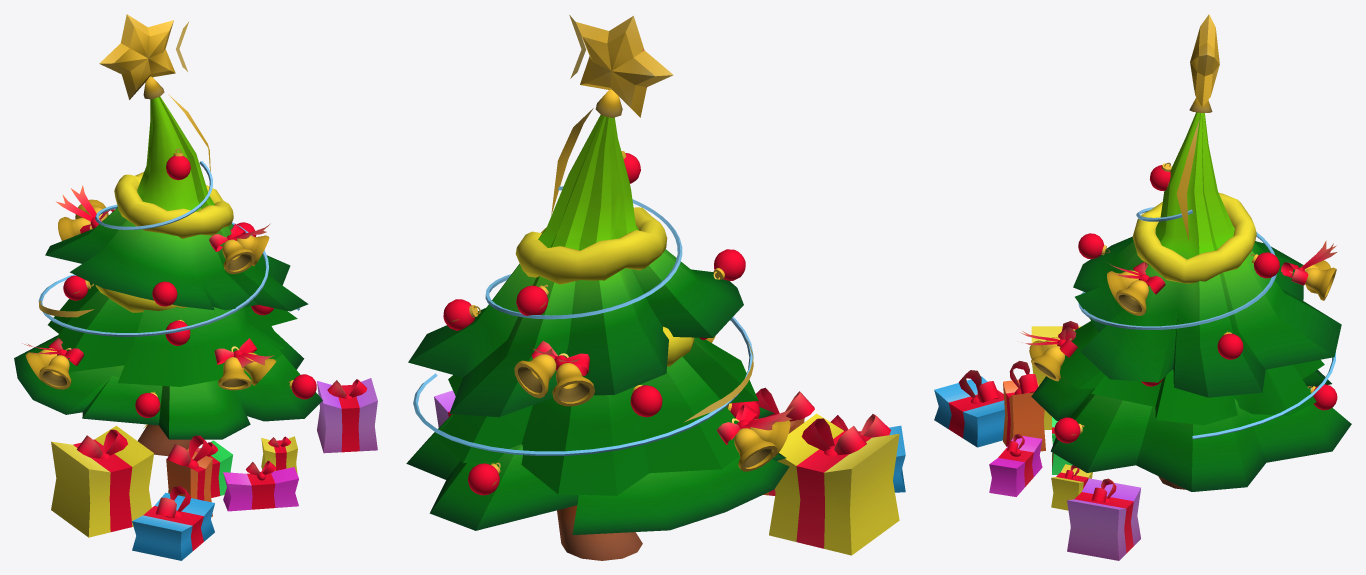
Rendered from christmas_tree_2.glb.
The picture shows the model from 3 angles, left to right: view 1: azimuth 30°, elevation 25°; view 2: azimuth 150°, elevation 25°; view 3: azimuth 270°, elevation 25°; orthographic projection. The views are drawn at different scales.
Parts seen in each view (by area): view 1: Cylinder007, Cylinder006, Cylinder002, Box003, Box004_Material #2_0, Box006, Object003_Material #2_0, Torus001, Box009_Material #2_0, Box005_Material #2_0, Helix001, Sphere007_Material #2_0 (+12 smaller); view 2: Cylinder007, Cylinder006, Cylinder002, Box003, Torus001, Object003_Material #2_0, Helix001, Sphere009_Material #2_0, Sphere011_Material #2_0, Cylinder008, Box004_Material #2_0, Box005_Material #2_0 (+7 smaller); view 3: Cylinder007, Cylinder002, Cylinder006, Box006, Torus001, Box004_Material #2_0, Box005_Material #2_0, Box009_Material #2_0, Helix001, Object003_Material #2_0, Sphere010_Material #2_0, Sphere007_Material #2_0 (+9 smaller).
Boxes of the visible parts, left/top/right/bottom form: Cylinder007: left=45, top=96, right=308, bottom=311; Cylinder006: left=48, top=282, right=297, bottom=386; Cylinder002: left=14, top=332, right=322, bottom=439; Box003: left=51, top=425, right=153, bottom=537; Box004_Material #2_0: left=132, top=486, right=214, bottom=560; Box006: left=317, top=378, right=377, bottom=453; Object003_Material #2_0: left=99, top=14, right=175, bottom=99; Torus001: left=114, top=172, right=233, bottom=238; Box009_Material #2_0: left=223, top=460, right=298, bottom=511; Box005_Material #2_0: left=166, top=435, right=212, bottom=516; Helix001: left=38, top=161, right=299, bottom=336; Sphere007_Material #2_0: left=214, top=338, right=276, bottom=390; Cylinder007: left=408, top=115, right=743, bottom=417; Cylinder006: left=438, top=337, right=758, bottom=495; Cylinder002: left=406, top=407, right=789, bottom=535; Box003: left=769, top=413, right=899, bottom=555; Torus001: left=515, top=207, right=667, bottom=284; Object003_Material #2_0: left=576, top=16, right=673, bottom=117; Helix001: left=413, top=186, right=753, bottom=455; Sphere009_Material #2_0: left=514, top=340, right=594, bottom=406; Sphere011_Material #2_0: left=716, top=404, right=795, bottom=471; Cylinder008: left=557, top=505, right=642, bottom=560; Box004_Material #2_0: left=830, top=414, right=905, bottom=492; Box005_Material #2_0: left=756, top=387, right=814, bottom=495; Cylinder007: left=1073, top=112, right=1341, bottom=397; Cylinder002: left=1031, top=369, right=1351, bottom=491; Cylinder006: left=1060, top=321, right=1324, bottom=425; Box006: left=1067, top=478, right=1140, bottom=560; Torus001: left=1132, top=193, right=1256, bottom=283; Box004_Material #2_0: left=934, top=370, right=1004, bottom=447; Box005_Material #2_0: left=1003, top=361, right=1045, bottom=451; Box009_Material #2_0: left=989, top=434, right=1042, bottom=496; Helix001: left=1078, top=207, right=1335, bottom=439; Object003_Material #2_0: left=1189, top=14, right=1219, bottom=112; Sphere010_Material #2_0: left=1107, top=261, right=1165, bottom=315; Sphere007_Material #2_0: left=1020, top=326, right=1077, bottom=381.
Size of the model in its own units: 0.9932 by 1.26 by 1.07.
1 material, 1 textured.
